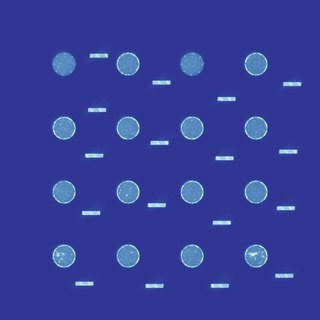overheated: (250, 252, 257, 257), (55, 253, 61, 258)
